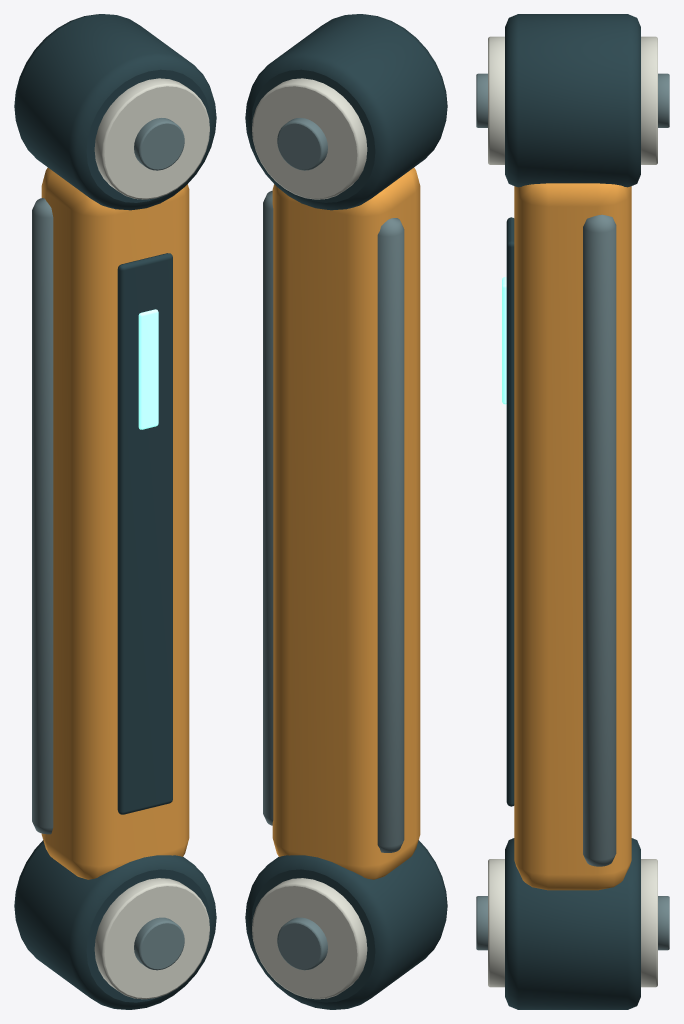
The model's file is arm_link.glb.
The picture shows the model from 3 angles, left to right: view 1: azimuth 30°, elevation 25°; view 2: azimuth 150°, elevation 25°; view 3: azimuth 270°, elevation 25°; orthographic projection. The views are drawn at different scales.
Visible parts, largest first — view 1: Seed_Arm enamel.001, Seed_Arm inset.001, Seed_Joint.003, Seed_Hydraulic strut.002, Seed_Joint.002, Seed_Joint disc.004, Seed_Joint disc.006, Seed_Arm indicator.001, Seed_Joint axle.004, Seed_Joint axle.006; view 2: Seed_Arm enamel.001, Seed_Joint.003, Seed_Hydraulic strut.002, Seed_Joint.002, Seed_Joint disc.005, Seed_Joint disc.007, Seed_Hydraulic strut.003, Seed_Joint axle.005, Seed_Joint axle.007; view 3: Seed_Arm enamel.001, Seed_Joint.003, Seed_Hydraulic strut.003, Seed_Joint.002, Seed_Arm inset.001, Seed_Joint disc.004, Seed_Joint disc.005, Seed_Joint disc.006, Seed_Joint disc.007, Seed_Joint axle.004, Seed_Joint axle.005, Seed_Joint axle.006 (+2 smaller).
Boxes of the visible parts, left/top/right/bottom form: Seed_Arm enamel.001: left=41, top=167, right=189, bottom=879; Seed_Arm inset.001: left=117, top=253, right=172, bottom=814; Seed_Joint.003: left=14, top=14, right=216, bottom=210; Seed_Hydraulic strut.002: left=32, top=198, right=53, bottom=834; Seed_Joint.002: left=14, top=840, right=216, bottom=1009; Seed_Joint disc.004: left=94, top=878, right=209, bottom=999; Seed_Joint disc.006: left=94, top=78, right=209, bottom=199; Seed_Arm indicator.001: left=138, top=309, right=158, bottom=429; Seed_Joint axle.004: left=134, top=917, right=184, bottom=970; Seed_Joint axle.006: left=134, top=118, right=184, bottom=170; Seed_Arm enamel.001: left=272, top=167, right=420, bottom=879; Seed_Joint.003: left=245, top=14, right=447, bottom=210; Seed_Hydraulic strut.002: left=377, top=218, right=404, bottom=852; Seed_Joint.002: left=245, top=840, right=447, bottom=1009; Seed_Joint disc.005: left=252, top=878, right=367, bottom=999; Seed_Joint disc.007: left=252, top=78, right=367, bottom=199; Seed_Hydraulic strut.003: left=263, top=190, right=273, bottom=825; Seed_Joint axle.005: left=277, top=917, right=327, bottom=970; Seed_Joint axle.007: left=277, top=118, right=327, bottom=170; Seed_Arm enamel.001: left=514, top=183, right=631, bottom=890; Seed_Joint.003: left=505, top=14, right=640, bottom=187; Seed_Hydraulic strut.003: left=583, top=214, right=616, bottom=866; Seed_Joint.002: left=505, top=838, right=640, bottom=1009; Seed_Arm inset.001: left=506, top=217, right=514, bottom=806; Seed_Joint disc.004: left=488, top=859, right=504, bottom=987; Seed_Joint disc.005: left=641, top=859, right=657, bottom=987; Seed_Joint disc.006: left=488, top=36, right=504, bottom=164; Seed_Joint disc.007: left=641, top=36, right=657, bottom=164; Seed_Joint axle.004: left=476, top=896, right=487, bottom=950; Seed_Joint axle.005: left=658, top=896, right=669, bottom=950; Seed_Joint axle.006: left=476, top=73, right=487, bottom=127.
Bounding box in the file's own units: 0.46 × 2.86 × 0.512.
